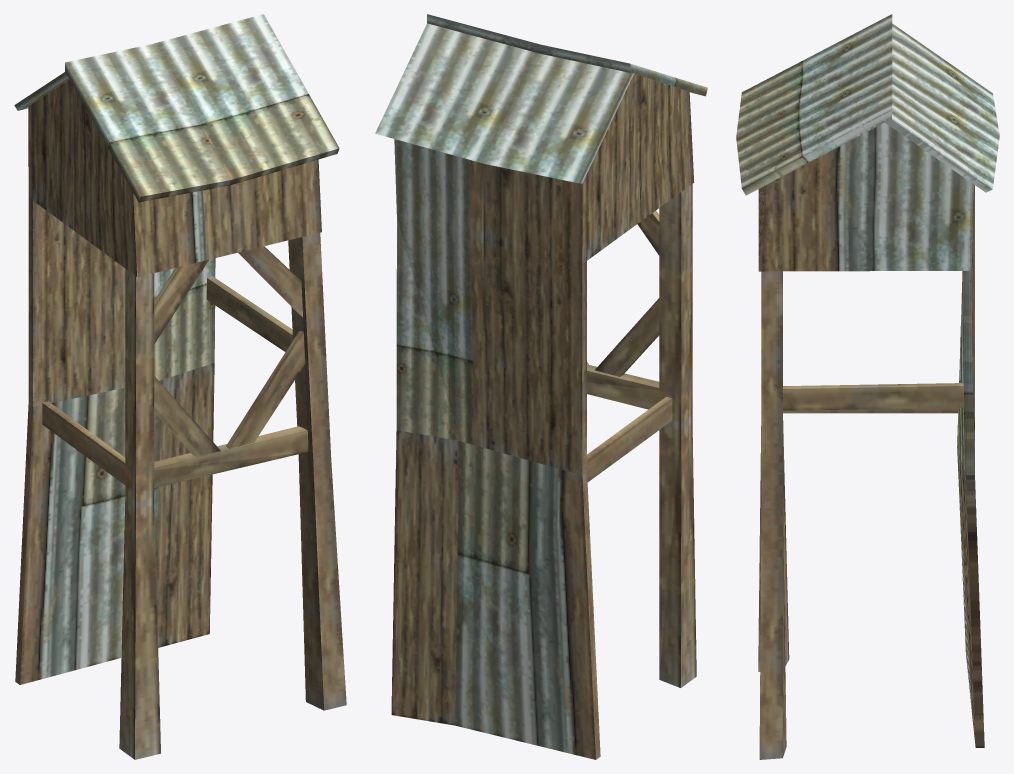
File: C2SMMINEHUT1H.obj
3 renders of one model, left to right at view 1: azimuth 30°, elevation 25°; view 2: azimuth 150°, elevation 25°; view 3: azimuth 270°, elevation 25°, orthographic. The views are drawn at different scales.
Visible parts, largest first — view 1: Node 0; view 2: Node 0; view 3: Node 0.
Part boxes in pixels (box(x1,y1,x2,y2)): Node 0: box(14, 14, 346, 759); Node 0: box(375, 14, 707, 759); Node 0: box(736, 14, 999, 759).
Bounding box in the file's own units: 7.6 × 21.13 × 7.84.
Materials: 1 (1 with a texture image).
